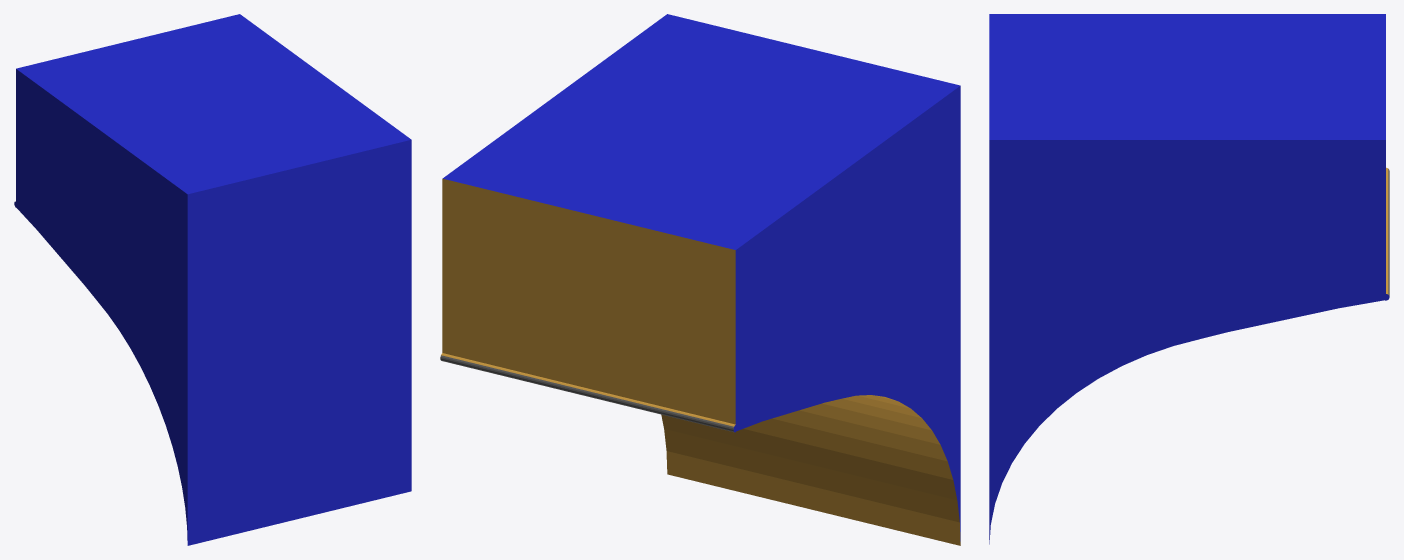
Rendered from Drop In Ramp.fbx.
3 renders of one model, left to right at view 1: azimuth 30°, elevation 25°; view 2: azimuth 150°, elevation 25°; view 3: azimuth 270°, elevation 25°, orthographic. The views are drawn at different scales.
Parts seen in each view (by area): view 1: Drop In Ramp; view 2: Drop In Ramp; view 3: Drop In Ramp.
Part boxes in pixels (x1=…): Drop In Ramp: x1=14, y1=14, x2=411, y2=545; Drop In Ramp: x1=440, y1=14, x2=960, y2=545; Drop In Ramp: x1=989, y1=14, x2=1389, y2=544.
Size of the model in its own units: 1600 by 2400 by 2145.
